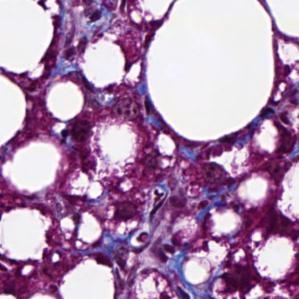inflammation: (60, 115, 95, 147)
